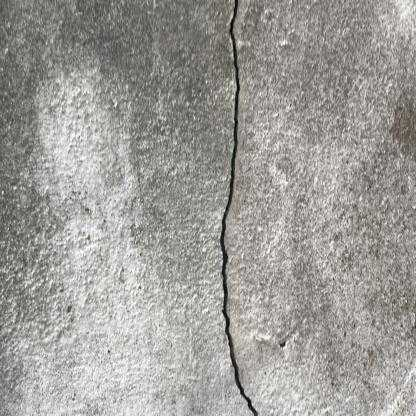crack: (219, 1, 260, 415)
